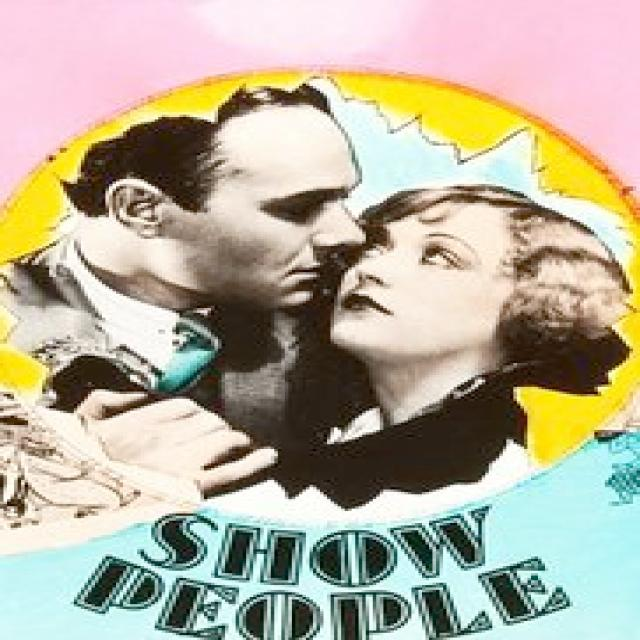movie-judul: (65, 490, 584, 640)
picture: (2, 50, 640, 522)
